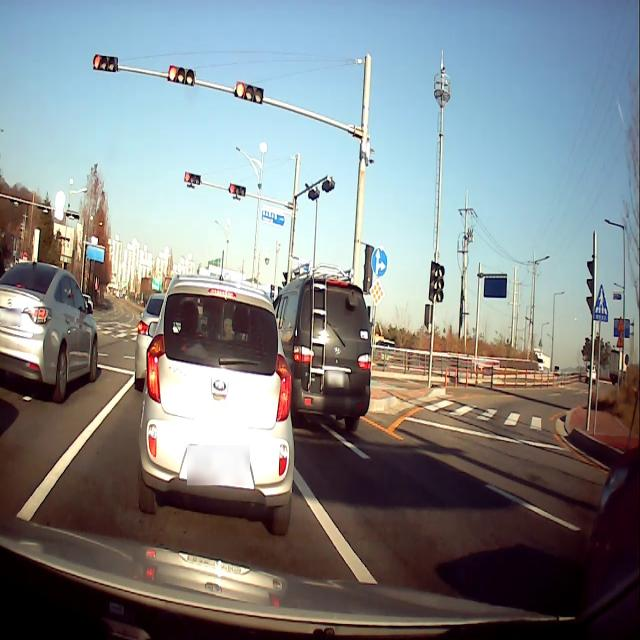Red Light: (168, 64, 178, 82), (236, 80, 245, 99), (94, 54, 102, 70), (229, 182, 235, 195), (184, 171, 190, 183)
